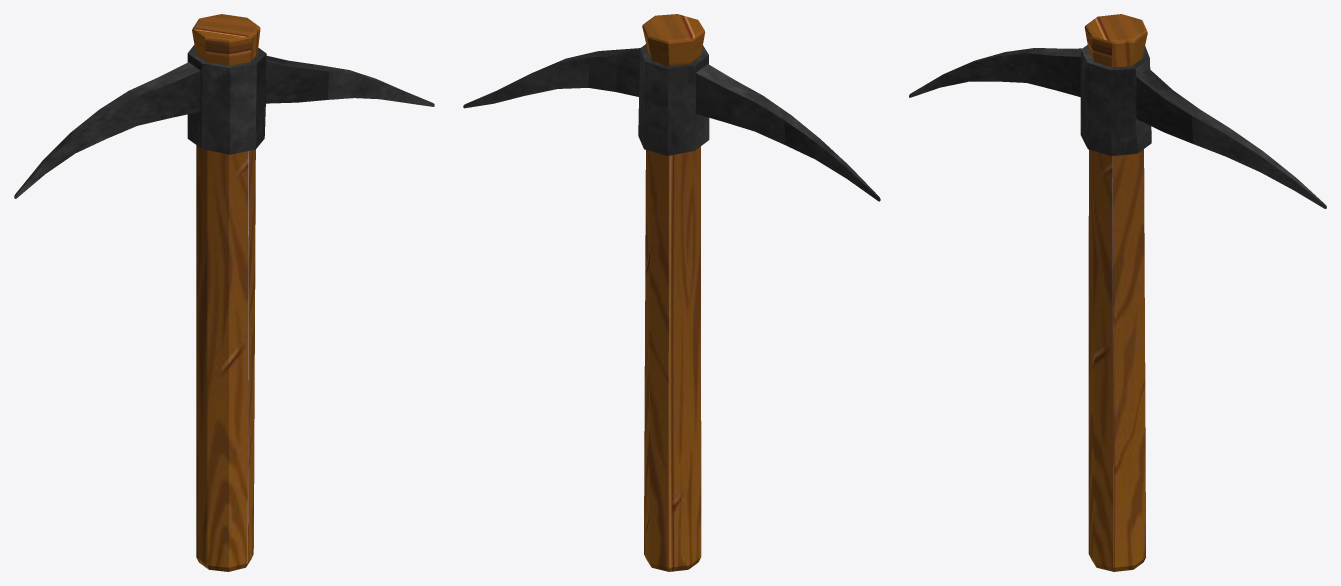
File: Mine_PickAxe.fbx
3 views of the same model, side by side, from view 1: azimuth 30°, elevation 25°; view 2: azimuth 150°, elevation 25°; view 3: azimuth 330°, elevation 25° (orthographic).
Visible parts, largest first — view 1: Pickaxe; view 2: Pickaxe; view 3: Pickaxe.
Part boxes in pixels (x1,y1,x2,y2): Pickaxe: (14, 14, 434, 571); Pickaxe: (463, 14, 880, 571); Pickaxe: (909, 14, 1326, 571).
Bounding box in the file's own units: 171 × 209 × 25.91.
